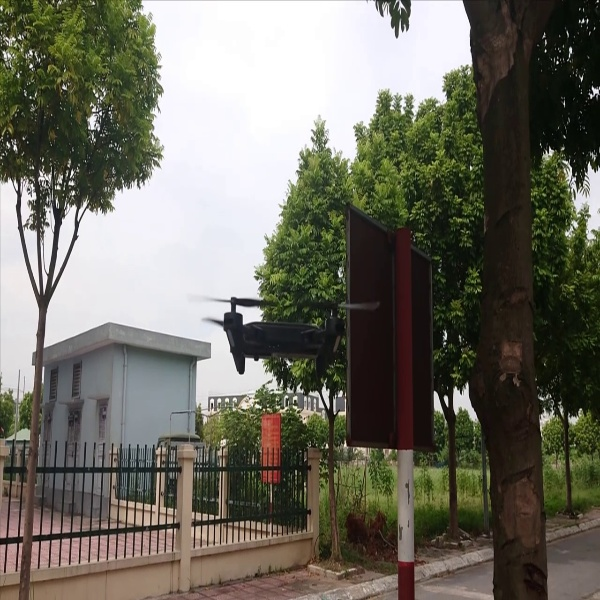drone: (200, 289, 381, 381)
